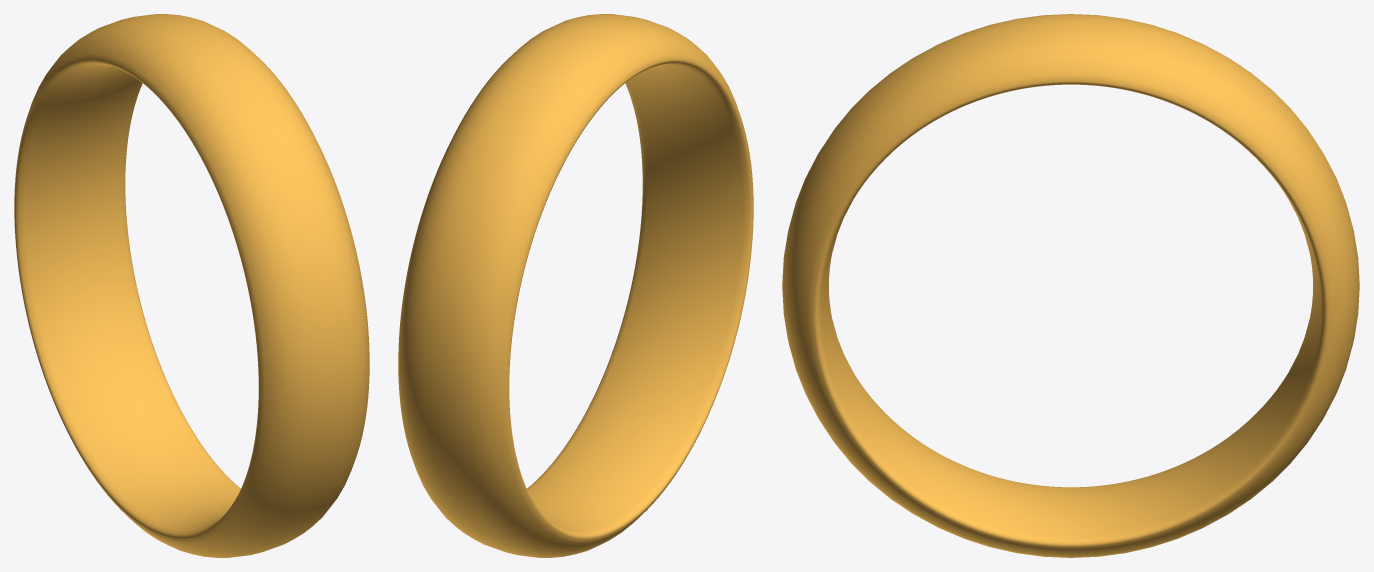
The model's file is ring_a.glb.
3 renders of one model, left to right at view 1: azimuth 30°, elevation 25°; view 2: azimuth 150°, elevation 25°; view 3: azimuth 270°, elevation 25°, orthographic. The views are drawn at different scales.
Visible parts, largest first — view 1: Object_4; view 2: Object_4; view 3: Object_4.
Part boxes in pixels (x1,y1,x2,y2): Object_4: (14,14,369,557); Object_4: (398,14,753,557); Object_4: (782,14,1359,557).
Size of the model in its own units: 0.2316 by 1 by 1.
